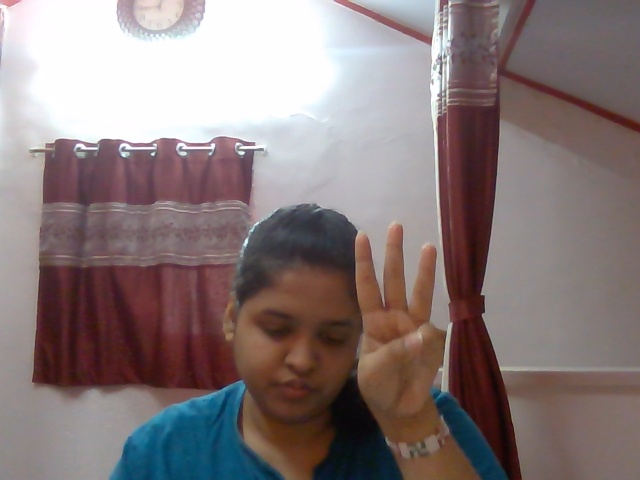w: (328, 214, 474, 423)
